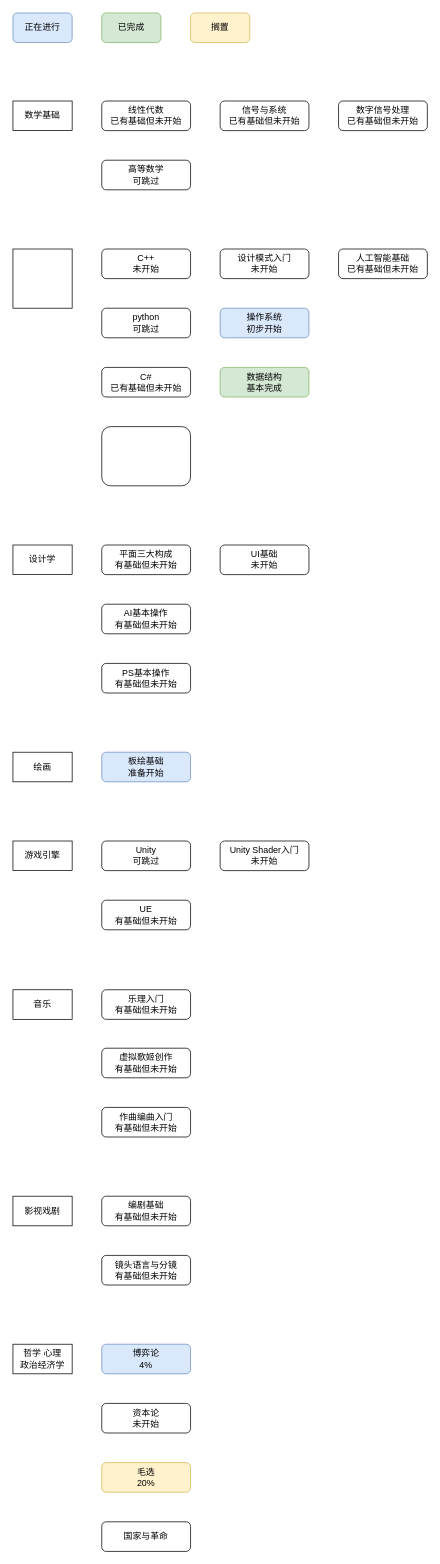
Image size: 440x1564. Some labels were removed from this diagram. The shapes that lost their labels are listed below. From the top down, each one's centre as x and y in pixels, then its label:
[42,278]: 计算机科学
[146,456]: 图形学基础（GAMES101） 已完成
